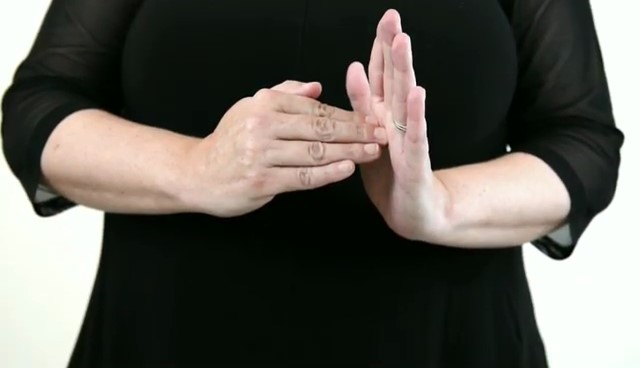Z: (196, 4, 444, 255)
